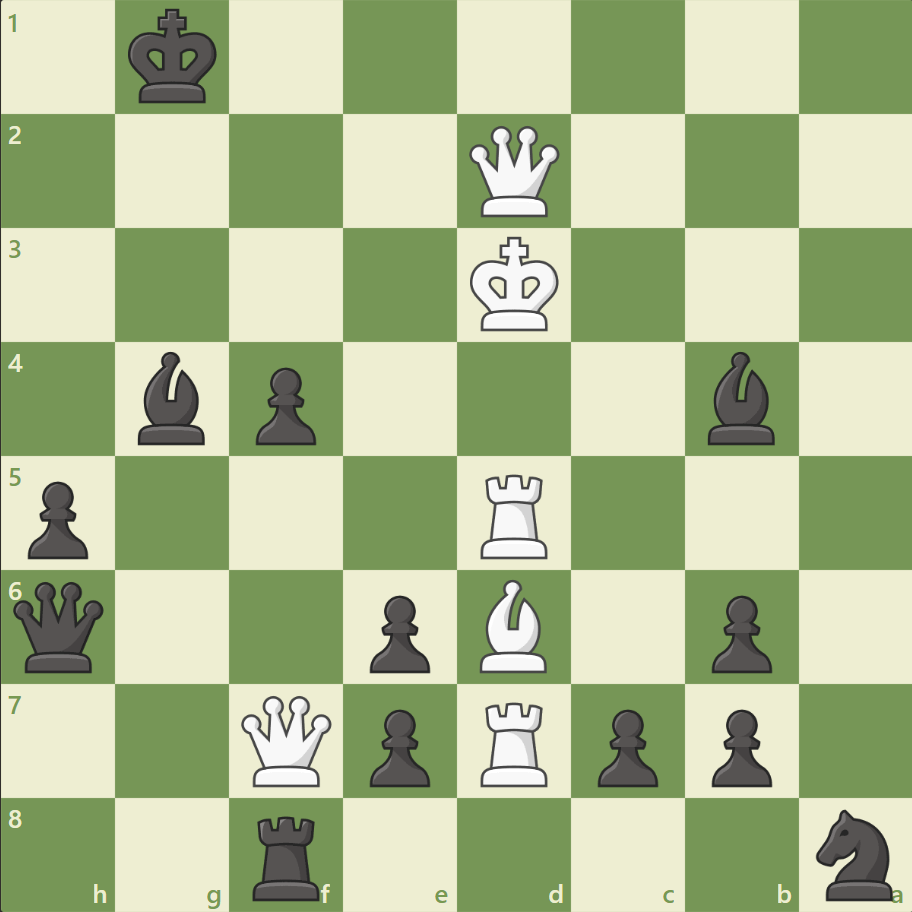B: (471, 574, 555, 676)
K: (465, 231, 565, 339)
Q: (464, 122, 563, 222), (237, 690, 336, 789)
R: (473, 693, 556, 790), (473, 466, 556, 563)
b: (698, 347, 782, 449), (131, 347, 215, 449)
k: (124, 4, 224, 112)
n: (806, 802, 903, 904)
p: (701, 700, 776, 791), (701, 586, 776, 677), (20, 473, 95, 564), (247, 359, 322, 450), (588, 700, 662, 791), (361, 700, 435, 791), (361, 586, 435, 677)
q: (10, 576, 109, 676)
r: (246, 806, 329, 904)
